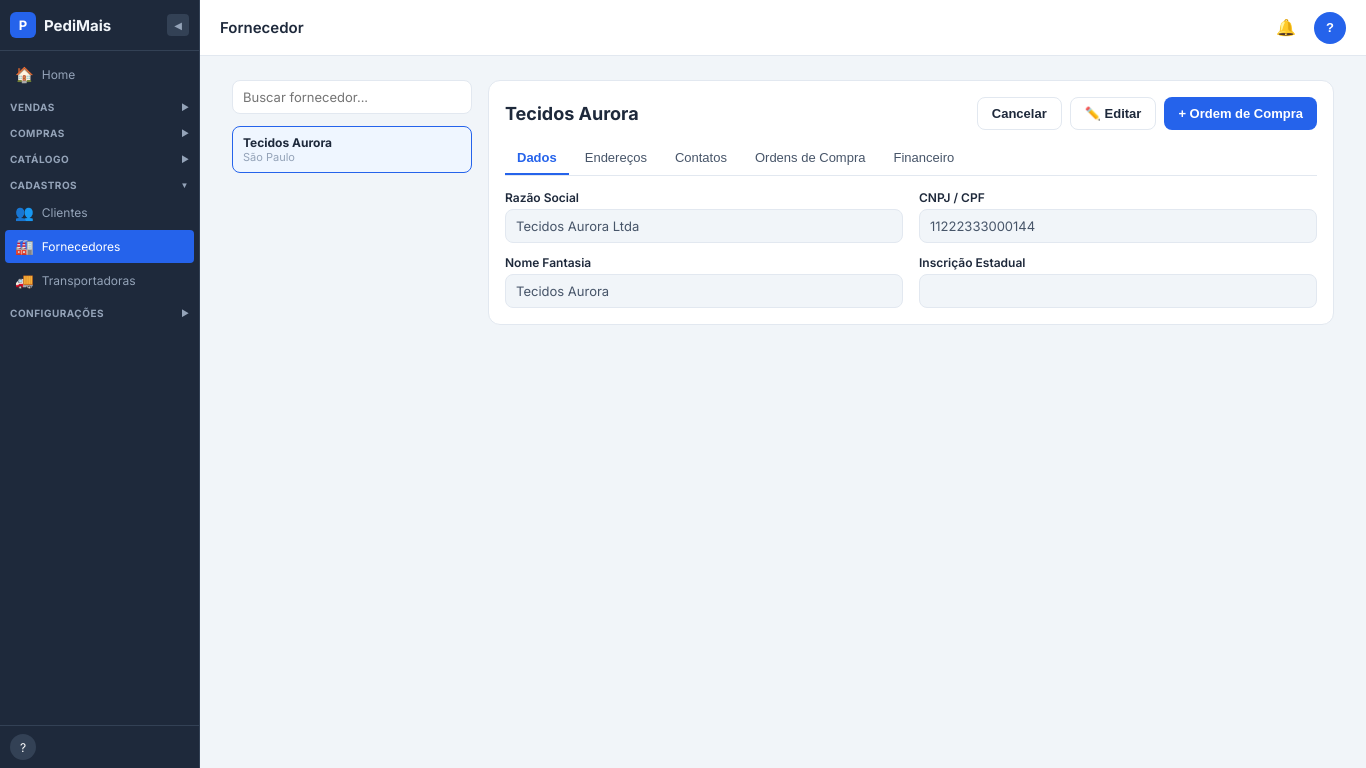
Scenario: FornecedorDetailView › shows an empty state on the Ordens de Compra tab
This screenshot has width=1366, height=768.
Click the button with class "tab" showing "Ordens de Compra". click: (810,158)
box: top-left (743, 142), bottom-right (878, 175)
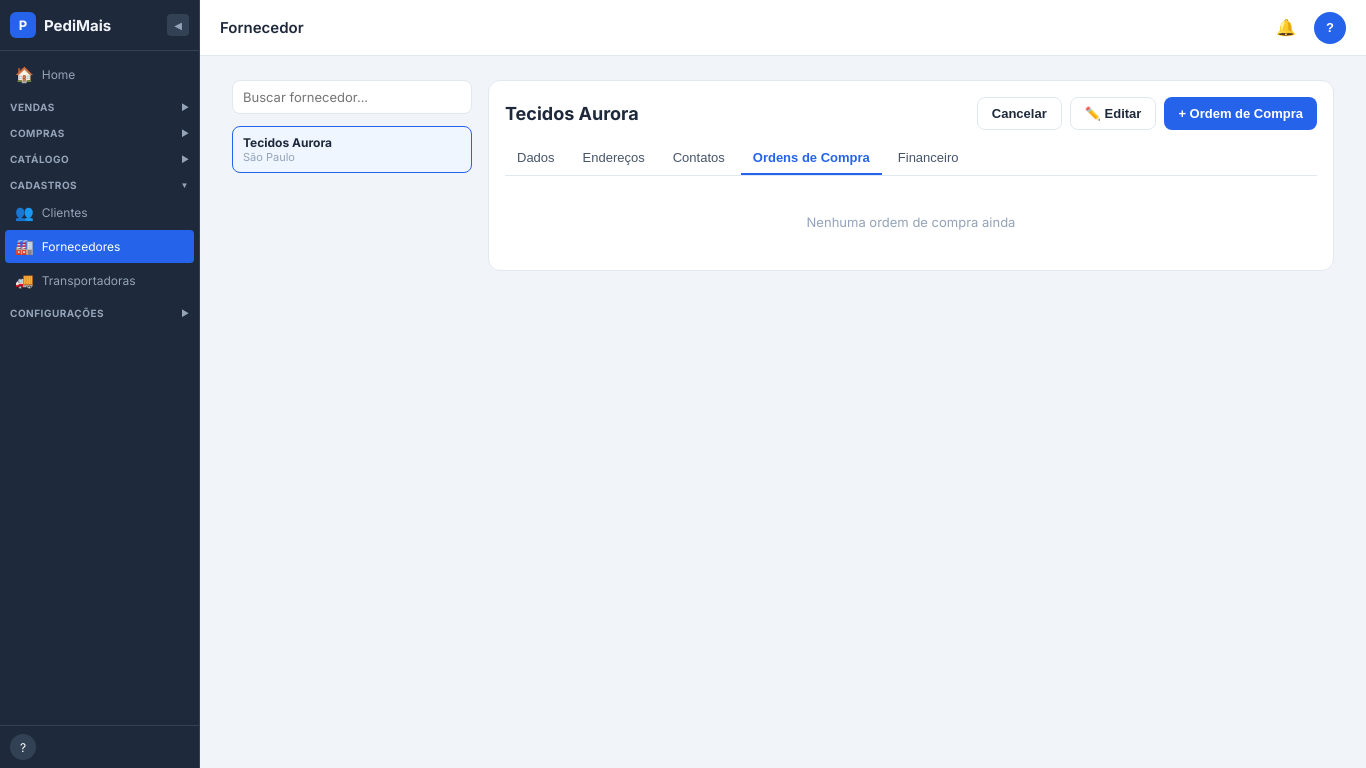
Now the text "Nenhuma ordem de compra ainda" is shown, box top-left (807, 214), bottom-right (1015, 230)
